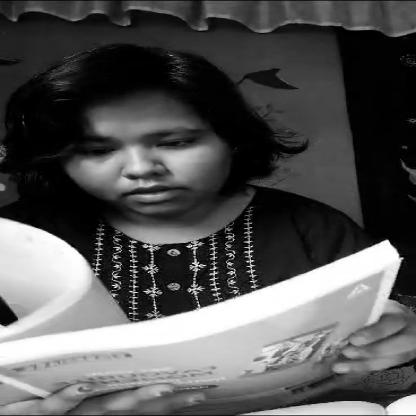Normal: (25, 76, 245, 210)
